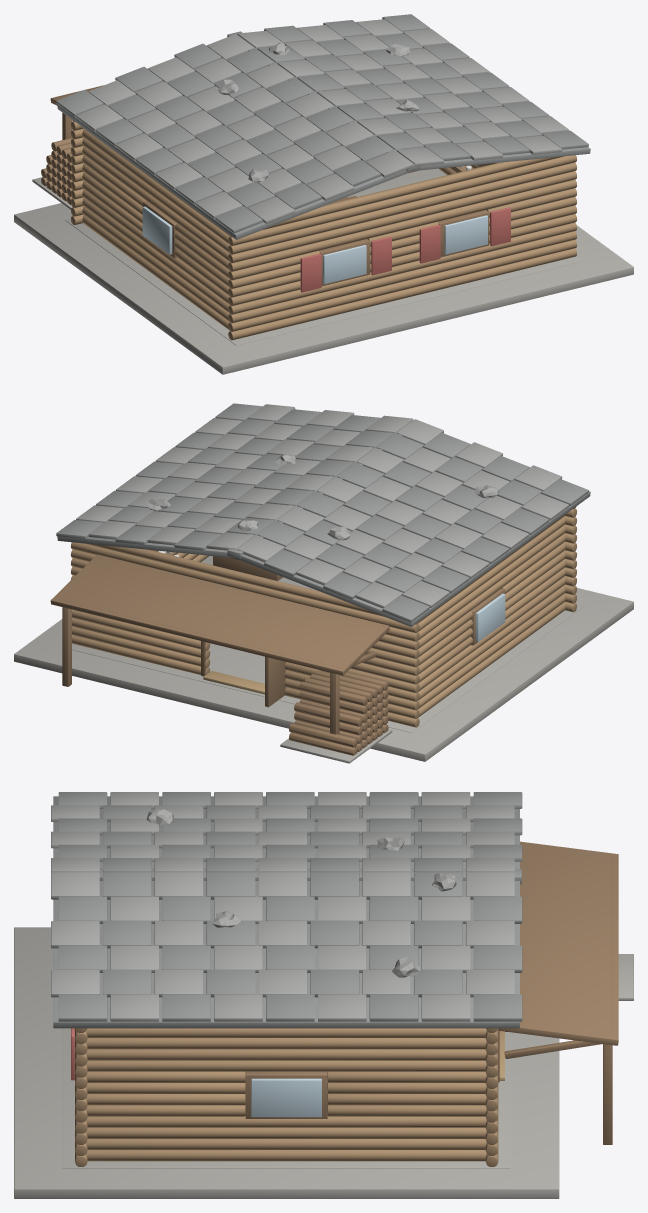
File: th26_berghuette.glb
3 renders of one model, top to bottom at view 1: azimuth 30°, elevation 25°; view 2: azimuth 150°, elevation 25°; view 3: azimuth 270°, elevation 25°, orthographic. The views are drawn at different scales.
Parts seen in each view (by area): view 1: Cube, Cube.002, Cylinder.041, Cylinder.039, Cylinder.040, Cylinder.024, Cylinder.025, Cylinder.023, Cylinder.042, Cylinder.026, Cylinder.043, Cube.019 (+129 smaller); view 2: Cube.135, Cube, Cube.002, Cylinder.021, Cylinder.022, Cube.019, Cylinder.046, Cylinder.057, Cylinder.058, Cylinder.056, Cylinder.044, Cylinder.045 (+129 smaller); view 3: Cube, Cube.135, Cube.020, Cube.002, Cylinder.074, Cylinder.063, Cylinder.073, Cylinder.061, Cylinder.075, Cylinder.064, Cylinder.062, Cylinder.076 (+120 smaller).
Boxes of the visible parts, x1,y1,x2,y2 form: Cube: (14, 203, 633, 374); Cube.002: (65, 168, 582, 345); Cylinder.041: (228, 162, 576, 254); Cylinder.039: (228, 179, 576, 271); Cylinder.040: (228, 171, 576, 263); Cylinder.024: (228, 240, 576, 331); Cylinder.025: (228, 231, 576, 323); Cylinder.023: (228, 248, 577, 340); Cylinder.042: (228, 155, 576, 246); Cylinder.026: (228, 222, 576, 314); Cylinder.043: (229, 156, 563, 237); Cube.019: (57, 104, 413, 239); Cube.135: (50, 554, 389, 675); Cube: (14, 588, 633, 761); Cube.002: (72, 555, 582, 732); Cylinder.021: (71, 542, 419, 633); Cylinder.022: (83, 543, 418, 624); Cube.019: (235, 491, 590, 626); Cylinder.046: (418, 585, 565, 699); Cylinder.057: (418, 525, 565, 639); Cylinder.058: (418, 516, 565, 631); Cylinder.056: (418, 534, 565, 648); Cylinder.044: (418, 602, 565, 717); Cylinder.045: (418, 594, 565, 708); Cube: (14, 927, 559, 1198); Cube.135: (498, 841, 618, 1045); Cube.020: (53, 881, 519, 1028); Cube.002: (62, 1028, 510, 1168); Cylinder.074: (86, 1049, 486, 1060); Cylinder.063: (86, 1127, 486, 1138); Cylinder.073: (86, 1060, 486, 1071); Cylinder.061: (86, 1150, 486, 1161); Cylinder.075: (86, 1038, 486, 1049); Cylinder.064: (86, 1116, 486, 1127); Cylinder.062: (86, 1139, 486, 1149); Cylinder.076: (86, 1028, 486, 1037).
Bounding box in the file's own units: 16.6 × 6 × 16.6.
